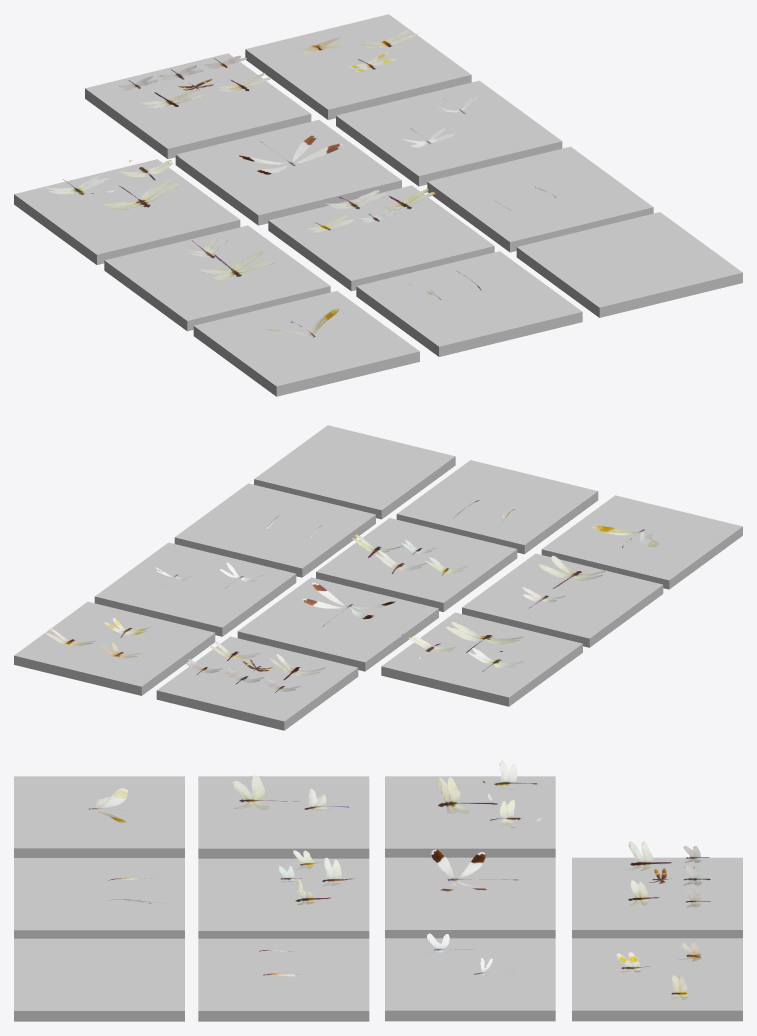
File: libelulas.fbx
The picture shows the model from 3 angles, top to bottom: view 1: azimuth 30°, elevation 25°; view 2: azimuth 150°, elevation 25°; view 3: azimuth 270°, elevation 25°; orthographic projection. The views are drawn at different scales.
Visible parts, largest first — view 1: Plane.052, Plane.053, Plane.054, Plane.051, Plane.055, Plane.056, Plane.047, Plane.049, Plane.050, Plane.057, Plane.048, Plane.002 (+2 smaller); view 2: Plane.051, Plane.052, Plane.053, Plane.055, Plane.056, Plane.047, Plane.054, Plane.048, Plane.057, Plane.049, Plane.050, Plane.002 (+3 smaller); view 3: Plane.051, Plane.052, Plane.055, Plane.053, Plane.056, Plane.054, Plane.047, Plane.049, Plane.050, Plane.057, Plane.048, Plane.002 (+5 smaller).
Part boxes in pixels (left/top/right/bottom): Plane.052: left=516, top=212, right=742, bottom=317; Plane.053: left=356, top=251, right=582, bottom=356; Plane.054: left=193, top=291, right=419, bottom=396; Plane.051: left=427, top=146, right=653, bottom=252; Plane.055: left=336, top=80, right=562, bottom=186; Plane.056: left=245, top=14, right=471, bottom=119; Plane.047: left=175, top=120, right=401, bottom=225; Plane.049: left=104, top=225, right=330, bottom=331; Plane.050: left=268, top=185, right=494, bottom=291; Plane.057: left=85, top=53, right=311, bottom=158; Plane.048: left=14, top=159, right=240, bottom=264; Plane.002: left=237, top=135, right=342, bottom=174; Plane.051: left=174, top=483, right=375, bottom=577; Plane.052: left=254, top=425, right=455, bottom=519; Plane.053: left=396, top=460, right=598, bottom=554; Plane.055: left=94, top=542, right=296, bottom=636; Plane.056: left=14, top=601, right=215, bottom=695; Plane.047: left=237, top=577, right=438, bottom=671; Plane.054: left=541, top=495, right=742, bottom=589; Plane.048: left=381, top=612, right=582, bottom=706; Plane.057: left=156, top=636, right=358, bottom=730; Plane.049: left=462, top=553, right=663, bottom=647; Plane.050: left=316, top=518, right=517, bottom=611; Plane.002: left=302, top=582, right=395, bottom=626; Plane.051: left=198, top=938, right=369, bottom=1021; Plane.052: left=14, top=938, right=184, bottom=1021; Plane.055: left=385, top=938, right=555, bottom=1021; Plane.053: left=14, top=858, right=184, bottom=938; Plane.056: left=572, top=938, right=742, bottom=1021; Plane.054: left=14, top=776, right=184, bottom=857; Plane.047: left=385, top=857, right=555, bottom=938; Plane.049: left=198, top=776, right=369, bottom=858; Plane.050: left=198, top=858, right=369, bottom=938; Plane.057: left=572, top=857, right=742, bottom=938; Plane.048: left=385, top=776, right=555, bottom=857; Plane.002: left=430, top=849, right=518, bottom=891.
Bounding box in the file's own units: 238 × 16.33 × 312.
